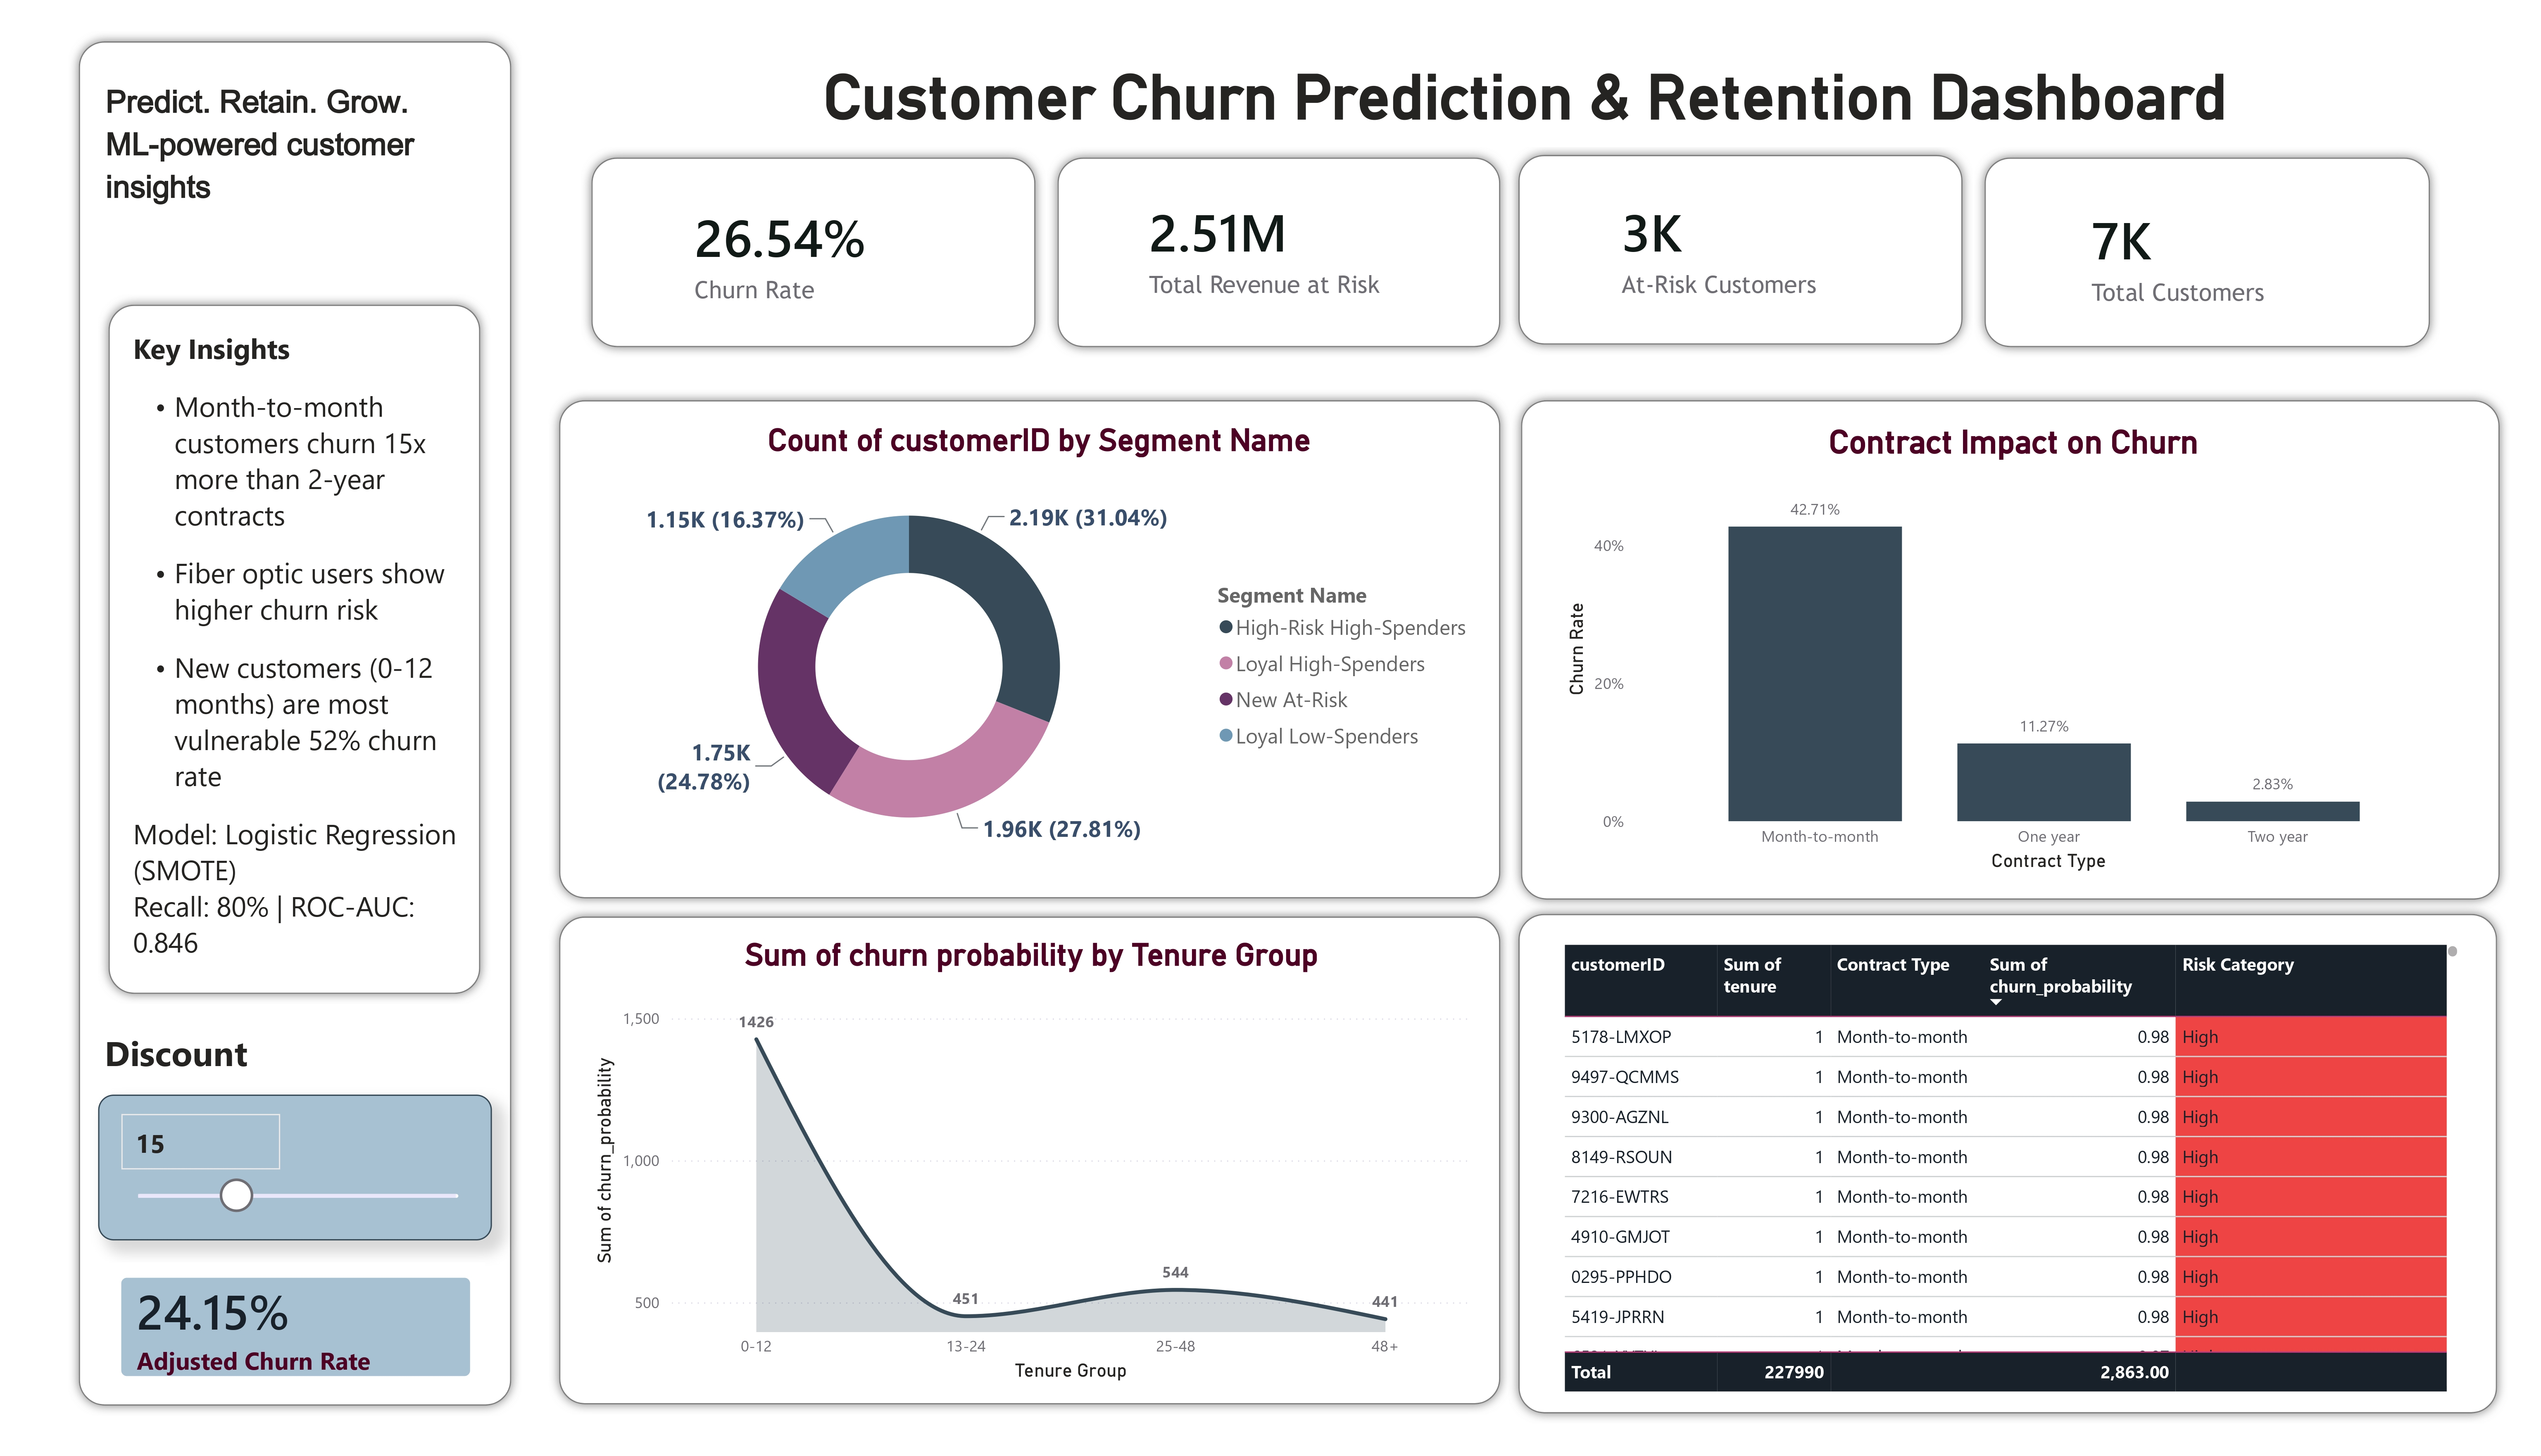

The page's visual inventory and layout, read from the dashboard file:
{"tool":"powerbi","page":{"name":"Page 1","canvas":[1920,1080],"ordinal":0},"visuals":[{"type":"shape","box":[29.2,0,350.6,1072.7],"z":0,"group":"g5"},{"type":"shape","box":[1143.7,87.7,359.8,162.5],"z":0,"group":"g3"},{"type":"group","id":"g1","title":"Group 2","box":[425.7,89.7,361,162.8],"z":0},{"type":"shape","box":[425.7,89.7,359.8,162.5],"z":0,"group":"g1"},{"type":"shape","box":[786.8,89.7,359,162.8],"z":0,"group":"g2"},{"type":"shape","box":[1504.7,89.7,360.7,162.5],"z":0,"group":"g4"},{"type":"shape","box":[52,204,304,550],"z":0,"group":"g14"},{"type":"shape","box":[400.7,277.6,744.7,401.9],"z":0,"group":"g6"},{"type":"shape","box":[1145.7,277.6,774.3,402.8],"z":0,"group":"g10"},{"type":"shape","box":[1144,676,774.3,402.8],"z":0,"group":"g13"},{"type":"shape","box":[400.7,678.3,745,394.4],"z":0,"group":"g12"},{"type":"group","id":"g2","title":"Group 2","box":[786.8,89.7,359,162.8],"z":1000},{"type":"cardVisual","fields":{"Data":["churn_predictions_for_powerbi.Total Revenue at Risk"]},"box":[835.7,108.5,280.4,117.5],"z":1000,"group":"g2"},{"type":"cardVisual","fields":{"Data":["churn_predictions_for_powerbi.At-Risk Customers"]},"box":[1201.9,108.9,238.1,117.5],"z":1000,"group":"g3"},{"type":"cardVisual","fields":{"Data":["churn_predictions_for_powerbi.Churn Rate"]},"box":[483.9,115.9,219.6,110],"z":1000,"group":"g1"},{"type":"cardVisual","fields":{"Data":["churn_predictions_for_powerbi.Total Customers"]},"box":[1565.7,117.2,220.1,110],"z":1000,"group":"g4"},{"type":"group","id":"g3","title":"Group 2","box":[1143.7,87.7,361,160.7],"z":2000},{"type":"group","id":"g4","title":"Group 2","box":[1504.7,89.7,361,160.7],"z":3000},{"type":"group","id":"g5","title":"Group 2","box":[29.2,0,350.6,1072.7],"z":4000},{"type":"slicer","fields":{"Values":["Discount.Discount"]},"box":[52.2,824.3,304.7,112.7],"z":5000},{"type":"cardVisual","fields":{"Data":["churn_predictions_for_powerbi.Adjusted Churn Rate"]},"box":[52.9,948.6,304.3,110],"z":6000},{"type":"group","id":"g6","title":"Group 2","box":[400.7,277.6,744.7,401.9],"z":7000,"group":"g11"},{"type":"group","id":"g7","title":"Group 1","box":[400.7,678.3,745,394.4],"z":7000},{"type":"donutChart","fields":{"Category":["churn_predictions_for_powerbi.Segment Name"],"Y":["CountNonNull(churn_predictions_for_powerbi.customerID)"]},"box":[435.3,302.5,690,352],"z":8000,"group":"g11"},{"type":"group","id":"g8","title":"Group 3","box":[1144,676,774,404],"z":8000},{"type":"group","id":"g9","title":"Group 4","box":[1145.7,277.6,774.3,402.8],"z":9000},{"type":"group","id":"g10","title":"Group 2","box":[1145.7,277.6,774.3,402.8],"z":9000,"group":"g9"},{"type":"group","id":"g11","title":"Group 5","box":[400.7,277.6,744.7,401.9],"z":10000},{"type":"clusteredColumnChart","title":"Contract Impact on Churn","fields":{"Category":["churn_predictions_for_powerbi.Contract Type"],"Y":["churn_predictions_for_powerbi.Churn Rate"]},"box":[1183.5,302.3,703.4,353.4],"z":10000,"group":"g9"},{"type":"textbox","box":[430,17.5,1455,72.5],"z":11000},{"type":"group","id":"g12","title":"Group 2","box":[400.7,678.3,745,394.4],"z":11000,"group":"g7"},{"type":"textbox","box":[53.3,31.7,301.7,136.7],"z":12000},{"type":"areaChart","title":"Sum of churn probability by Tenure Group","fields":{"Category":["churn_predictions_for_powerbi.Tenure Group"],"Y":["Sum(churn_predictions_for_powerbi.churn_probability)"]},"box":[430.2,702.5,688.3,348.5],"z":12000,"group":"g7"},{"type":"group","id":"g13","title":"Group 2","box":[1144,676,774.3,402.8],"z":13000,"group":"g8"},{"type":"textbox","box":[52.2,767.8,153.3,48.9],"z":13000},{"type":"group","id":"g14","title":"Group 2","box":[52,204,304,550],"z":14000},{"type":"tableEx","fields":{"Values":["churn_predictions_for_powerbi.customerID","Sum(churn_predictions_for_powerbi.tenure)","churn_predictions_for_powerbi.Contract Type","Sum(churn_predictions_for_powerbi.churn_probability)","churn_predictions_for_powerbi.Risk Category"]},"box":[1181.8,703.2,703.4,355.8],"z":14000,"group":"g8"},{"type":"textbox","box":[74,226,266,512],"z":15000}]}

Visuals, with their boxes on the page's 1920x1080 design canvas (x1, y1, x2, y2). These are canvas units, not pixel positions in the 2541x1456 screenshot, which may show the page scaled, cropped or inside an application window:
shape: Rect(29, 0, 380, 1073)
shape: Rect(1144, 88, 1504, 250)
"Group 2" group: Rect(426, 90, 787, 252)
shape: Rect(426, 90, 786, 252)
shape: Rect(787, 90, 1146, 252)
shape: Rect(1505, 90, 1865, 252)
shape: Rect(52, 204, 356, 754)
shape: Rect(401, 278, 1145, 680)
shape: Rect(1146, 278, 1920, 680)
shape: Rect(1144, 676, 1918, 1079)
shape: Rect(401, 678, 1146, 1073)
"Group 2" group: Rect(787, 90, 1146, 252)
cardVisual - churn_predictions_for_powerbi.Total Revenue at Risk: Rect(836, 108, 1116, 226)
cardVisual - churn_predictions_for_powerbi.At-Risk Customers: Rect(1202, 109, 1440, 226)
cardVisual - churn_predictions_for_powerbi.Churn Rate: Rect(484, 116, 704, 226)
cardVisual - churn_predictions_for_powerbi.Total Customers: Rect(1566, 117, 1786, 227)
"Group 2" group: Rect(1144, 88, 1505, 248)
"Group 2" group: Rect(1505, 90, 1866, 250)
"Group 2" group: Rect(29, 0, 380, 1073)
slicer - Discount.Discount: Rect(52, 824, 357, 937)
cardVisual - churn_predictions_for_powerbi.Adjusted Churn Rate: Rect(53, 949, 357, 1059)
"Group 2" group: Rect(401, 278, 1145, 680)
"Group 1" group: Rect(401, 678, 1146, 1073)
donutChart - churn_predictions_for_powerbi.Segment Name x CountNonNull(churn_predictions_for_powerbi.customerID): Rect(435, 302, 1125, 654)
"Group 3" group: Rect(1144, 676, 1918, 1080)
"Group 4" group: Rect(1146, 278, 1920, 680)
"Group 2" group: Rect(1146, 278, 1920, 680)
"Group 5" group: Rect(401, 278, 1145, 680)
"Contract Impact on Churn" clusteredColumnChart: Rect(1184, 302, 1887, 656)
textbox: Rect(430, 18, 1885, 90)
"Group 2" group: Rect(401, 678, 1146, 1073)
textbox: Rect(53, 32, 355, 168)
"Sum of churn probability by Tenure Group" areaChart: Rect(430, 702, 1118, 1051)
"Group 2" group: Rect(1144, 676, 1918, 1079)
textbox: Rect(52, 768, 206, 817)
"Group 2" group: Rect(52, 204, 356, 754)
tableEx - churn_predictions_for_powerbi.customerID x Sum(churn_predictions_for_powerbi.tenure): Rect(1182, 703, 1885, 1059)
textbox: Rect(74, 226, 340, 738)
